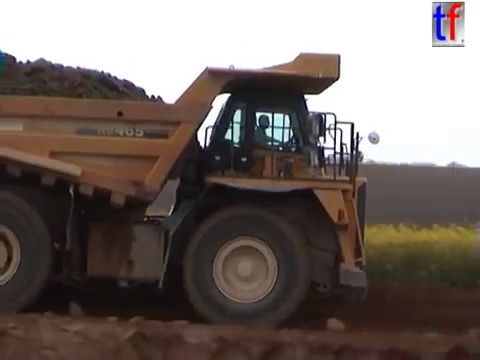truck: (1, 49, 382, 333)
